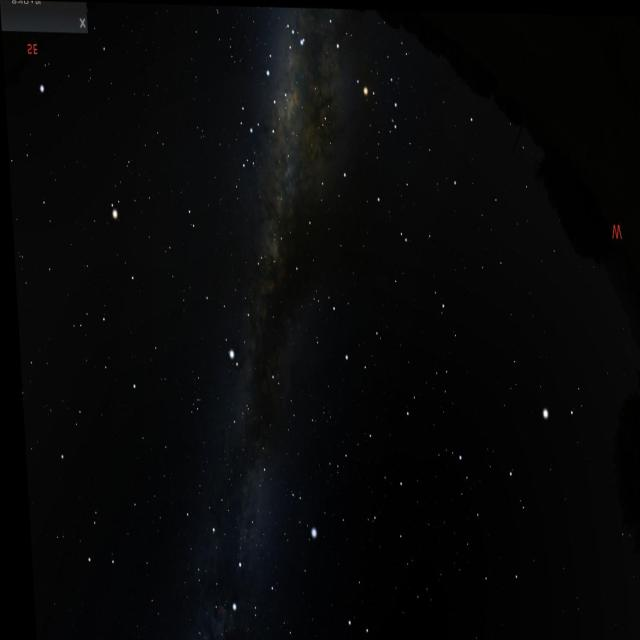aquila: (195, 236, 282, 407)
bootes: (458, 373, 582, 609)
cygnus: (194, 434, 282, 618)
lyra: (281, 484, 320, 546)
sagittarius: (224, 86, 288, 178)
scorpius: (281, 10, 413, 164)
